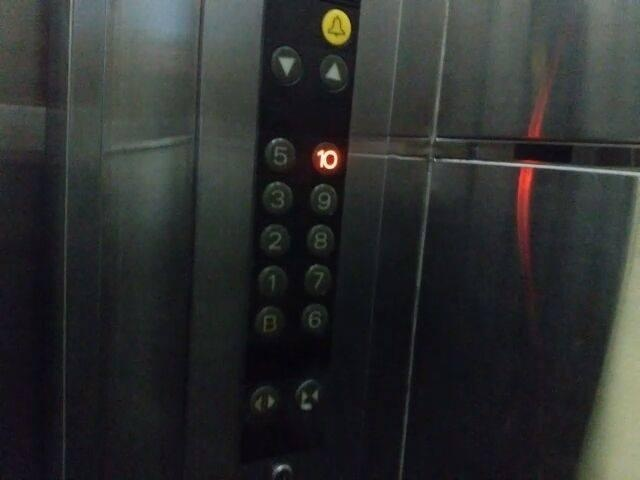1: (256, 264, 289, 299)
10: (312, 142, 343, 176)
2: (258, 224, 292, 259)
3: (259, 181, 294, 216)
5: (263, 137, 296, 172)
6: (300, 303, 329, 334)
7: (304, 263, 332, 296)
8: (305, 223, 336, 256)
9: (307, 182, 338, 216)
B: (254, 306, 285, 338)
alarm: (319, 7, 353, 46)
close: (294, 378, 324, 414)
down: (268, 45, 305, 87)
open: (249, 385, 281, 419)
up: (314, 53, 350, 93)
